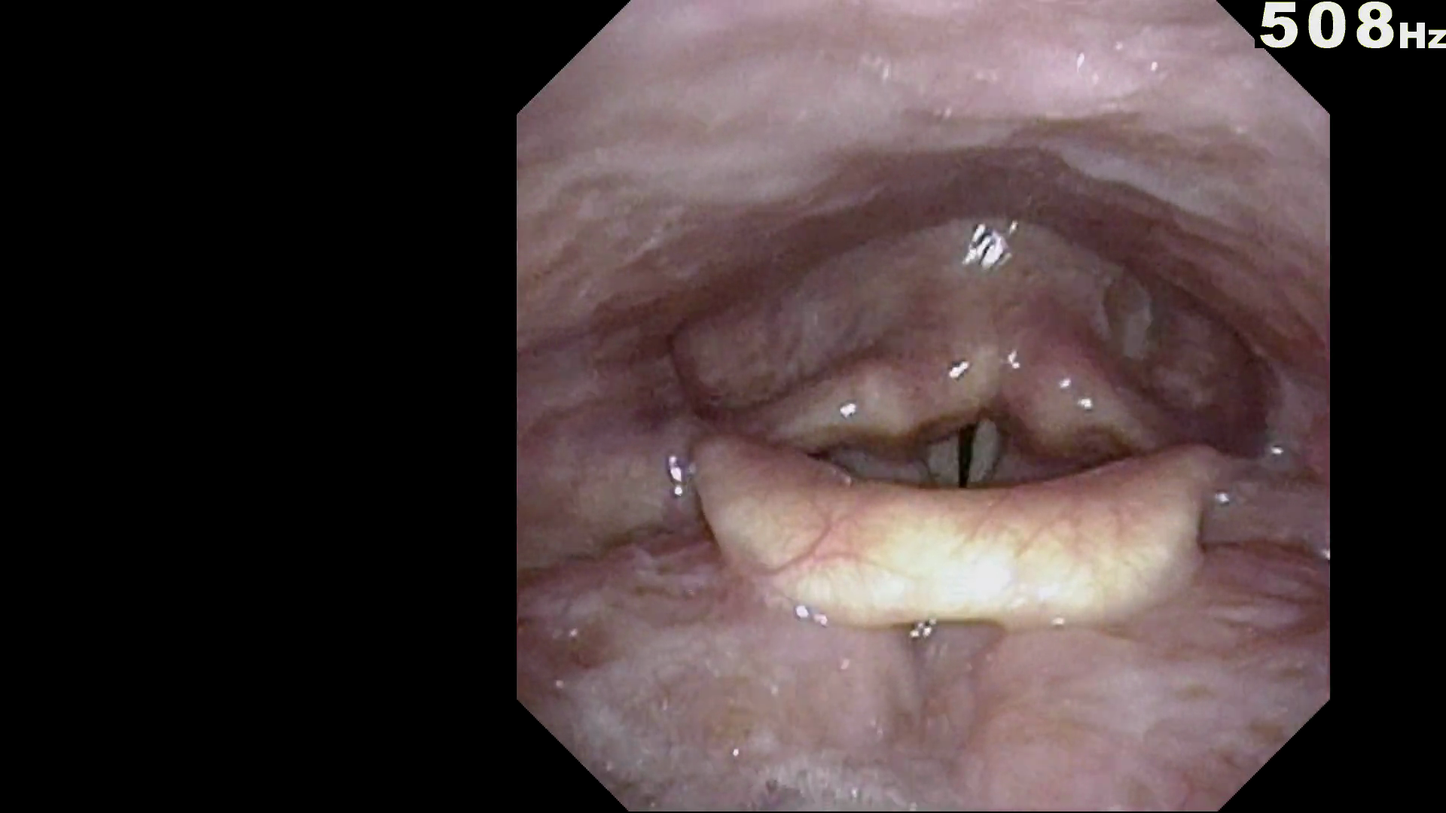epiglottis: (678, 384, 1250, 637)
trachea: (896, 347, 1056, 515)
